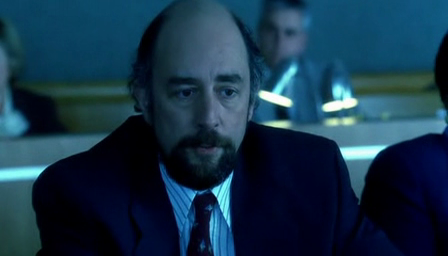cu: (1, 1, 448, 256)
face: (153, 45, 251, 190), (261, 13, 303, 66)
person: (32, 1, 403, 256), (360, 32, 448, 256), (251, 1, 363, 123)
